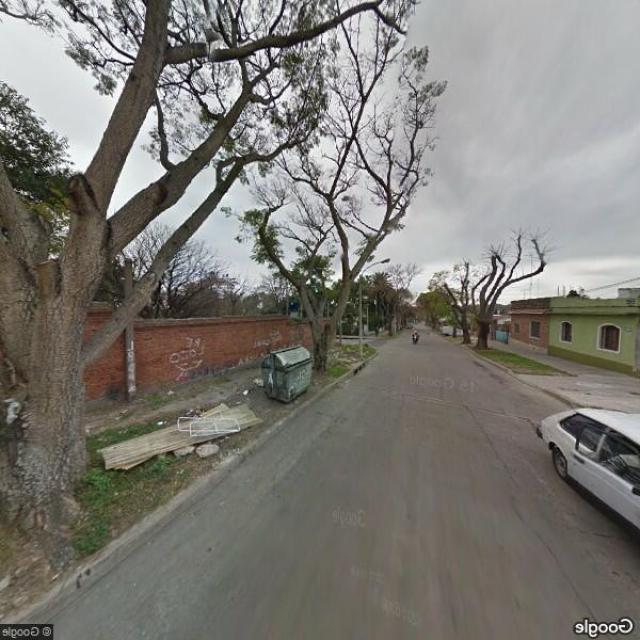garbage container: (254, 338, 320, 415)
